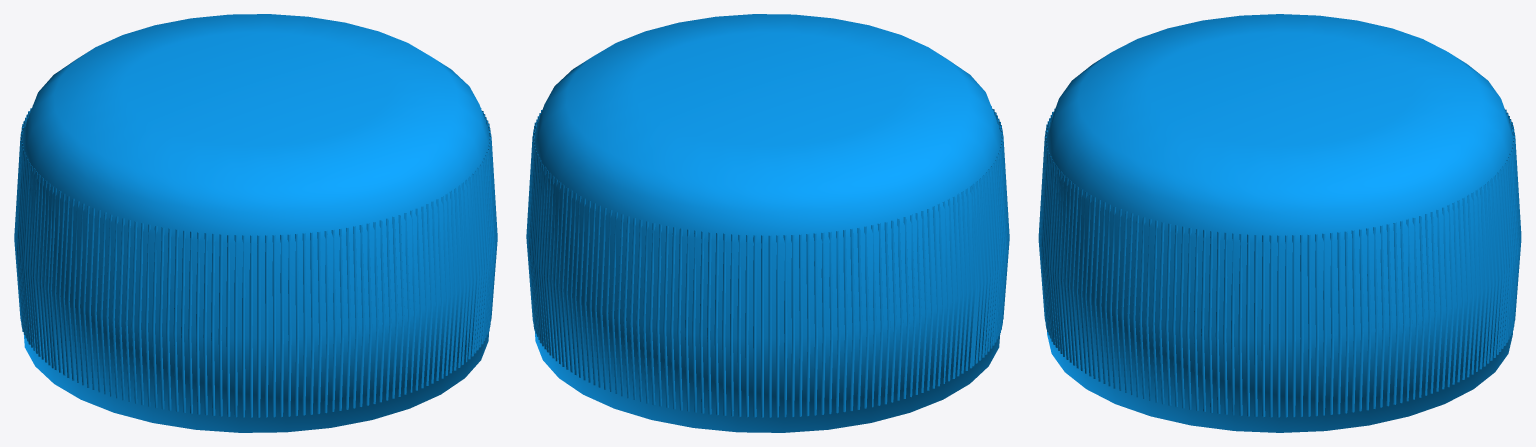
Rendered from Plastic Water Bottle Cap.fbx.
3 renders of one model, left to right at view 1: azimuth 30°, elevation 25°; view 2: azimuth 150°, elevation 25°; view 3: azimuth 270°, elevation 25°, orthographic.
Parts seen in each view (by area): view 1: BottleCap; view 2: BottleCap; view 3: BottleCap.
Boxes of the visible parts, x1,y1,x2,y2 form: BottleCap: (14, 14, 497, 432); BottleCap: (526, 14, 1009, 432); BottleCap: (1038, 14, 1521, 432).
Bounding box in the file's own units: 0.0295 × 0.0295 × 0.0165.
